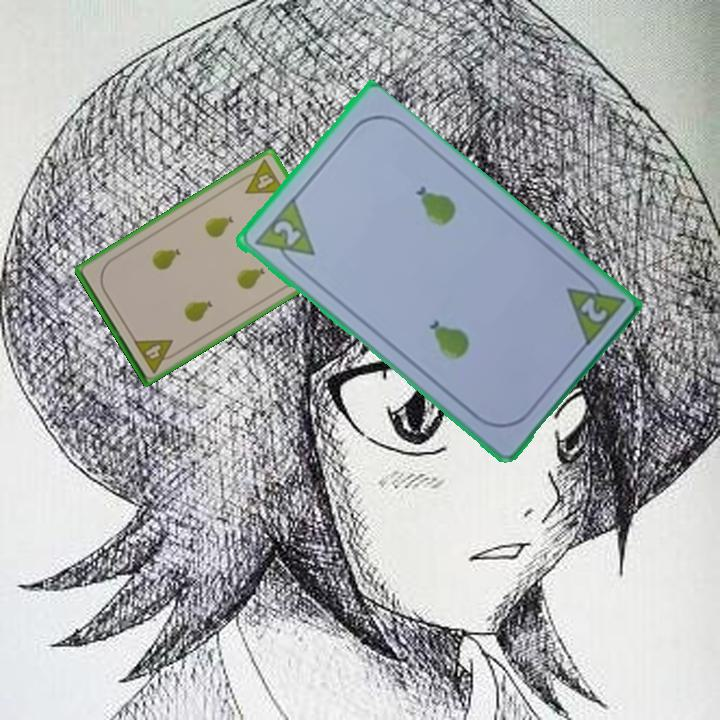2p: (269, 216, 303, 249), (575, 294, 610, 326)
4p: (235, 156, 288, 197), (130, 335, 182, 376)
